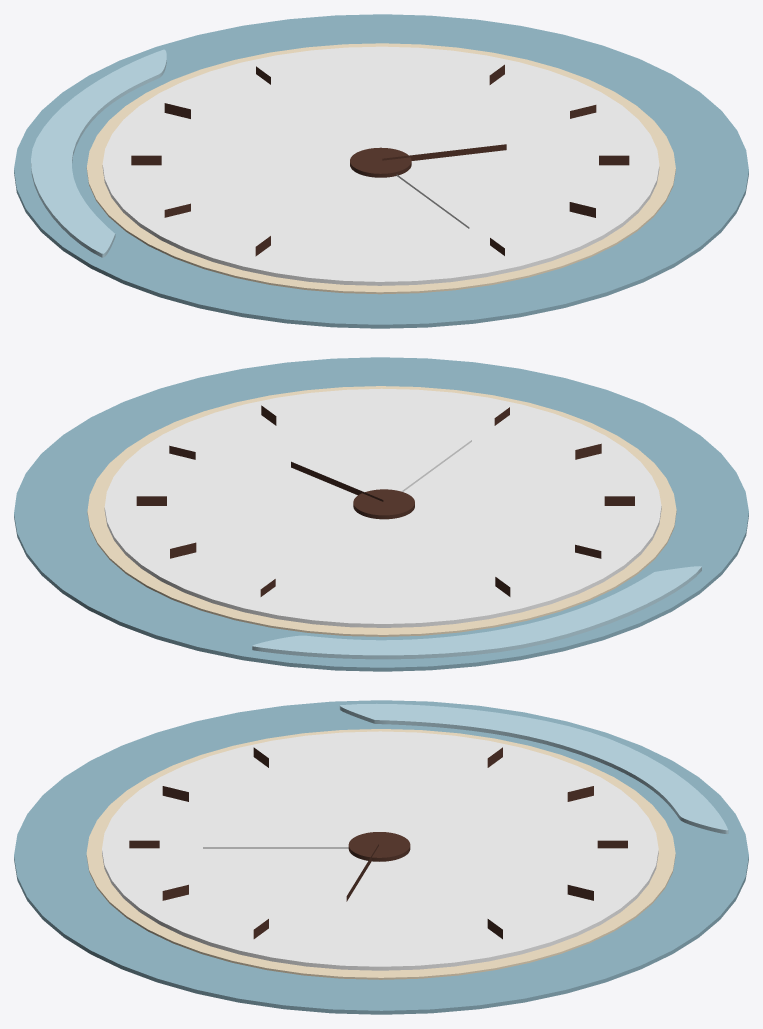
The model's file is emoji_u1f55e.glb.
3 views of the same model, one above another, from view 1: azimuth 30°, elevation 25°; view 2: azimuth 150°, elevation 25°; view 3: azimuth 270°, elevation 25° (orthographic).
Parts seen in each view (by area): view 1: emoji_u1f55e; view 2: emoji_u1f55e; view 3: emoji_u1f55e.
Part boxes in pixels (x1,y1,x2,y2): emoji_u1f55e: [14, 14, 748, 328]; emoji_u1f55e: [14, 357, 748, 671]; emoji_u1f55e: [14, 700, 748, 1014].
Size of the model in its own units: 0.0339 by 0.0018 by 0.0339.
